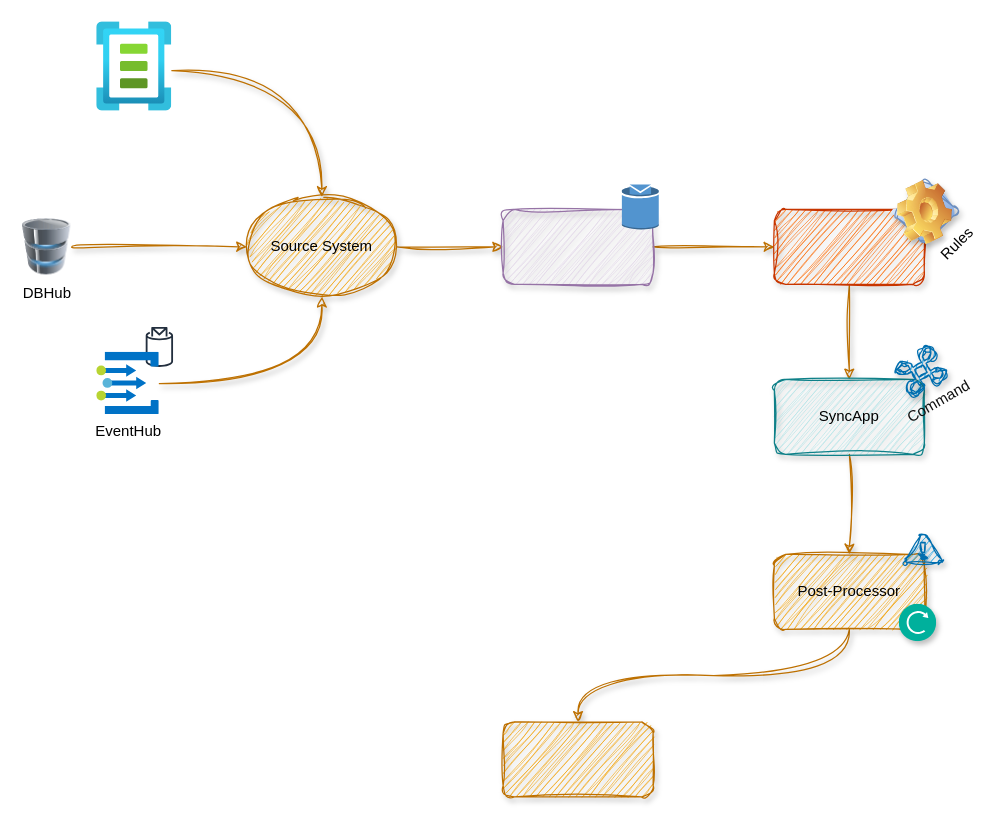
This 999x828 diagram has some shape labels left out. The centre of each missing label's shape, as x and y in pixels:
Collibra Data Intelligence Platform Layer: point 579,761
Pre-Validation Processor: point 579,248
SpecsHub: point 133,66
Validator app: point 850,248
